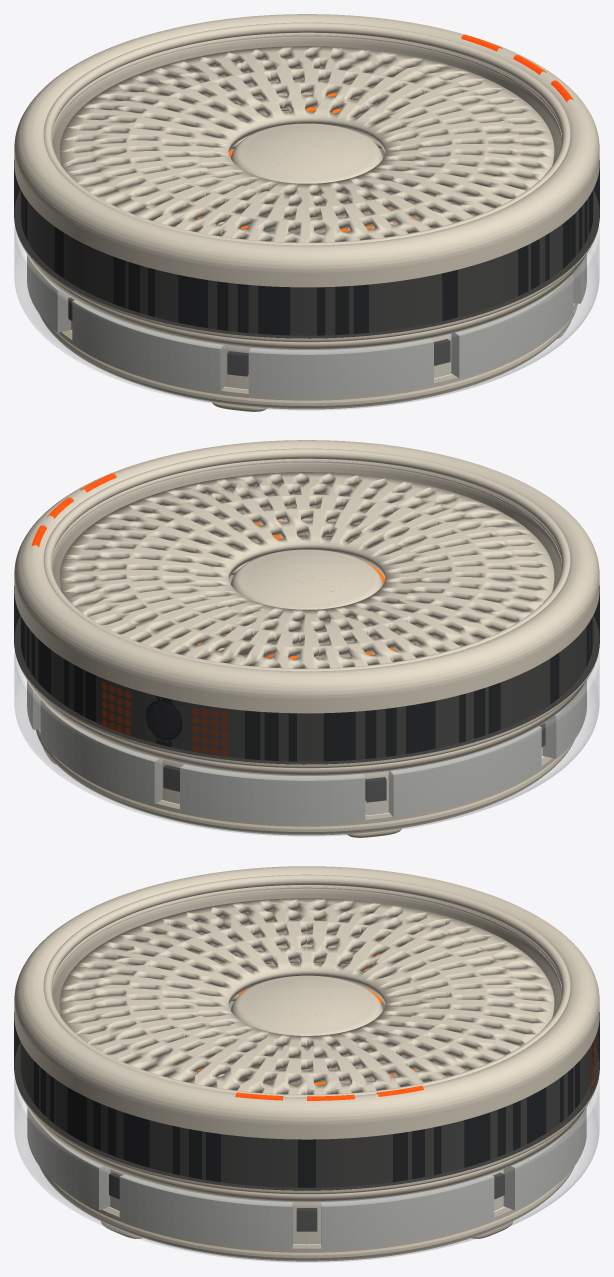
The model's file is wisp.glb.
3 views of the same model, one above another, from view 1: azimuth 30°, elevation 25°; view 2: azimuth 150°, elevation 25°; view 3: azimuth 270°, elevation 25° (orthographic).
Parts seen in each view (by area): view 1: top grille, ring ceramic.001, ring graphite.001, Wisp v13 face glass, titanium lip.001, Wisp v9 S cell 5, Wisp v9 S cell 4, hub.001, Wisp v9 S cell 6, Wisp v9 S landing ring, ring core.001, Wisp v9 S duct liner (+3 smaller); view 2: top grille, ring ceramic.001, ring graphite.001, Wisp v13 face glass, titanium lip.001, Wisp v9 S cell 2, Wisp v9 S cell 3, hub.001, Wisp v9 S cell 1, Wisp v9 S landing ring, ring core.001, Wisp v9 S duct liner (+3 smaller); view 3: top grille, ring ceramic.001, ring graphite.001, Wisp v13 face glass, titanium lip.001, Wisp v9 S cell 0, Wisp v9 S cell 7, hub.001, Wisp v9 S landing ring, ring core.001, Wisp v9 S cell 1, Wisp v9 S cell 6 (+3 smaller).
Part boxes in pixels (x1,y1,x2,y2): top grille: (59,46,554,242); ring ceramic.001: (14,14,599,342); ring graphite.001: (14,149,599,410); Wisp v13 face glass: (14,160,599,338); titanium lip.001: (43,22,570,245); Wisp v9 S cell 5: (248,338,433,397); Wisp v9 S cell 4: (72,300,225,391); hub.001: (231,123,382,233); Wisp v9 S cell 6: (451,274,573,378); Wisp v9 S landing ring: (39,303,577,409); ring core.001: (25,251,587,349); Wisp v9 S duct liner: (52,35,561,389); top grille: (59,472,554,668); ring ceramic.001: (14,440,599,768); ring graphite.001: (14,575,599,836); Wisp v13 face glass: (14,586,599,764); titanium lip.001: (43,448,570,671); Wisp v9 S cell 2: (180,764,365,823); Wisp v9 S cell 3: (388,726,541,817); hub.001: (231,549,382,659); Wisp v9 S cell 1: (40,700,162,804); Wisp v9 S landing ring: (36,729,574,835); ring core.001: (26,677,588,775); Wisp v9 S duct liner: (52,461,561,815); top grille: (59,898,554,1094); ring ceramic.001: (14,866,599,1194); ring graphite.001: (14,1002,599,1262); Wisp v13 face glass: (14,1012,599,1190); titanium lip.001: (43,874,570,1097); Wisp v9 S cell 0: (321,1174,494,1249); Wisp v9 S cell 7: (119,1174,292,1249); hub.001: (231,975,382,1085); Wisp v9 S landing ring: (39,1166,574,1261); ring core.001: (26,1104,587,1202); Wisp v9 S cell 1: (503,1107,586,1210); Wisp v9 S cell 6: (27,1107,110,1210).
Size of the model in its own units: 0.046 by 0.0151 by 0.046.
